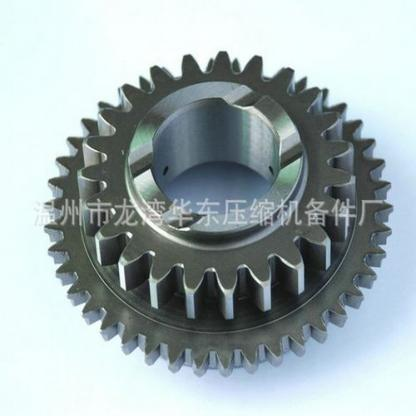FOD: (39, 42, 394, 388)
